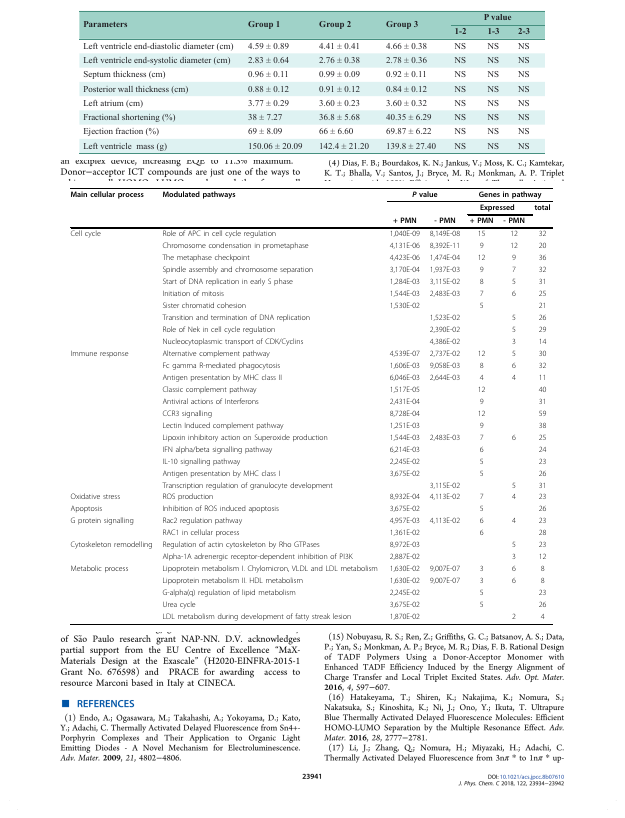borderless: (69, 186, 553, 624), (78, 9, 545, 153)
cell: (161, 564, 379, 574), (161, 552, 354, 562), (161, 612, 352, 622), (161, 540, 321, 550), (161, 481, 334, 490), (81, 42, 234, 52), (161, 265, 314, 275), (161, 433, 329, 442), (81, 56, 231, 66), (161, 313, 311, 323), (161, 337, 304, 347), (161, 576, 304, 586), (161, 588, 297, 598), (161, 242, 310, 251), (161, 277, 294, 287), (161, 373, 283, 383), (161, 361, 281, 371), (161, 325, 276, 335), (161, 421, 284, 430), (161, 349, 271, 359), (81, 85, 189, 95), (161, 469, 281, 478), (161, 505, 280, 514), (161, 230, 277, 239), (161, 445, 273, 454), (161, 385, 257, 395), (81, 113, 176, 123), (81, 70, 166, 81), (161, 253, 251, 263), (161, 397, 260, 406), (81, 142, 167, 152), (161, 301, 247, 311), (81, 127, 159, 138), (69, 540, 154, 550), (161, 516, 243, 526), (161, 528, 240, 538), (161, 457, 241, 466), (70, 190, 145, 199), (161, 190, 236, 199), (69, 516, 135, 526), (161, 289, 225, 299), (81, 99, 143, 109), (69, 349, 129, 359), (69, 564, 129, 574), (478, 190, 542, 199), (247, 142, 303, 152), (385, 127, 432, 138), (318, 142, 369, 152), (385, 142, 436, 152), (161, 493, 214, 502), (385, 113, 432, 123), (161, 409, 213, 418), (69, 493, 121, 502), (247, 70, 289, 81), (318, 70, 360, 81), (385, 70, 427, 81), (82, 21, 128, 31), (247, 42, 289, 52), (318, 42, 360, 52), (385, 42, 427, 52), (247, 56, 289, 66), (318, 56, 360, 66), (385, 56, 427, 66), (247, 85, 289, 95), (318, 85, 360, 95), (385, 85, 427, 95), (247, 99, 289, 109), (318, 99, 360, 109), (385, 99, 427, 109), (318, 113, 360, 123), (247, 127, 283, 138), (318, 127, 354, 138), (479, 203, 516, 213), (247, 113, 283, 123), (161, 600, 197, 610), (384, 21, 419, 31), (247, 21, 281, 31), (318, 21, 352, 31), (389, 253, 421, 263), (429, 253, 461, 263), (389, 265, 421, 275), (429, 265, 461, 275), (389, 277, 421, 287), (429, 277, 461, 287), (389, 289, 421, 299), (429, 289, 461, 299), (389, 301, 421, 311), (429, 313, 461, 323), (429, 325, 461, 335), (429, 337, 461, 347), (389, 349, 421, 359), (429, 349, 461, 359), (389, 361, 421, 371), (429, 361, 461, 371), (389, 373, 421, 383), (429, 373, 461, 383), (389, 385, 421, 395), (389, 516, 421, 526), (429, 516, 461, 526), (389, 528, 421, 538), (389, 540, 421, 550), (389, 552, 421, 562), (389, 564, 421, 574), (429, 564, 461, 574), (389, 576, 421, 586), (429, 576, 461, 586), (389, 588, 421, 598), (389, 600, 421, 610), (389, 612, 421, 622), (69, 505, 103, 514), (482, 14, 512, 24), (69, 230, 102, 239), (389, 230, 421, 239), (429, 230, 461, 239), (389, 242, 421, 251), (429, 242, 461, 251), (389, 397, 421, 406), (389, 409, 421, 418), (389, 421, 421, 430), (389, 433, 421, 442), (429, 433, 461, 442), (389, 445, 421, 454), (389, 457, 421, 466), (389, 469, 421, 478), (429, 481, 461, 490), (389, 493, 421, 502), (429, 493, 461, 502), (389, 505, 421, 514), (392, 216, 418, 226), (469, 216, 494, 226), (411, 190, 438, 199), (502, 216, 526, 226), (433, 216, 456, 226), (534, 203, 551, 213), (453, 70, 467, 81), (486, 70, 500, 81), (453, 127, 467, 138), (486, 127, 500, 138), (517, 70, 530, 81), (517, 127, 530, 138), (453, 28, 467, 38), (486, 28, 500, 38), (516, 28, 530, 38), (453, 42, 467, 52), (486, 42, 500, 52), (453, 56, 467, 66), (486, 56, 500, 66), (453, 85, 467, 95), (486, 85, 500, 95), (453, 99, 467, 109), (486, 99, 500, 109), (453, 113, 467, 123), (486, 113, 500, 123), (453, 142, 467, 152), (486, 142, 500, 152), (517, 42, 530, 52), (517, 56, 530, 66), (517, 85, 530, 95), (517, 99, 530, 109), (517, 113, 530, 123), (517, 142, 530, 152), (509, 230, 519, 239), (509, 242, 519, 251), (477, 253, 486, 263), (538, 253, 547, 263), (538, 265, 547, 275), (538, 277, 547, 287), (538, 289, 547, 299), (538, 301, 547, 311), (538, 313, 547, 323), (538, 325, 547, 335), (538, 337, 547, 347), (477, 349, 486, 359), (538, 349, 547, 359), (538, 361, 547, 371), (538, 373, 547, 383), (477, 385, 486, 395), (538, 385, 547, 395), (538, 516, 547, 526), (538, 528, 547, 538), (538, 540, 547, 550), (538, 552, 547, 562), (538, 588, 547, 598), (538, 600, 547, 610), (477, 230, 486, 239), (538, 230, 547, 239), (538, 242, 547, 251), (538, 397, 547, 406), (477, 409, 486, 418), (538, 409, 547, 418), (538, 421, 547, 430), (538, 433, 547, 442), (538, 445, 547, 454), (538, 457, 547, 466), (538, 469, 547, 478), (538, 481, 547, 490), (538, 493, 547, 502), (538, 505, 547, 514), (511, 253, 517, 263), (511, 265, 517, 275), (511, 277, 517, 287), (511, 289, 517, 299), (511, 313, 517, 323), (511, 325, 517, 335), (511, 337, 517, 347), (511, 349, 517, 359), (511, 361, 517, 371), (511, 373, 517, 383), (511, 516, 517, 526), (511, 540, 517, 550), (511, 552, 517, 562), (511, 564, 517, 574), (511, 576, 517, 586), (511, 612, 517, 622), (511, 433, 517, 442), (511, 481, 517, 490), (511, 493, 517, 502), (479, 265, 484, 275), (479, 277, 484, 287), (479, 289, 484, 299), (479, 301, 484, 311), (479, 361, 484, 371), (479, 373, 484, 383), (479, 516, 484, 526), (479, 528, 484, 538), (479, 564, 484, 574), (540, 564, 545, 574), (479, 576, 484, 586), (540, 576, 545, 586), (479, 588, 484, 598), (479, 600, 484, 610), (540, 612, 545, 622), (479, 242, 484, 251), (479, 397, 484, 406), (479, 421, 484, 430), (479, 433, 484, 442), (479, 445, 484, 454), (479, 457, 484, 466), (479, 469, 484, 478), (479, 493, 484, 502), (479, 505, 484, 514)
